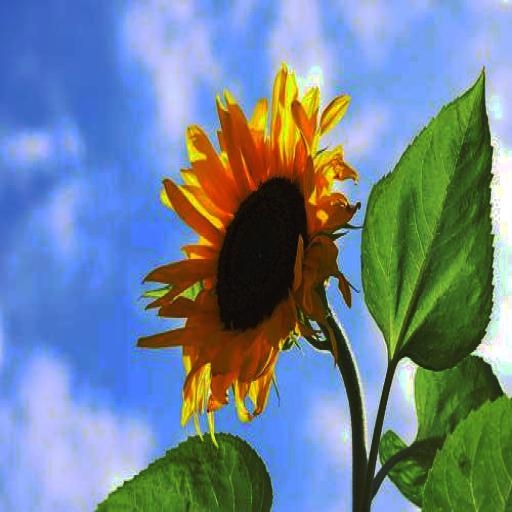sunflower: (140, 68, 350, 439)
